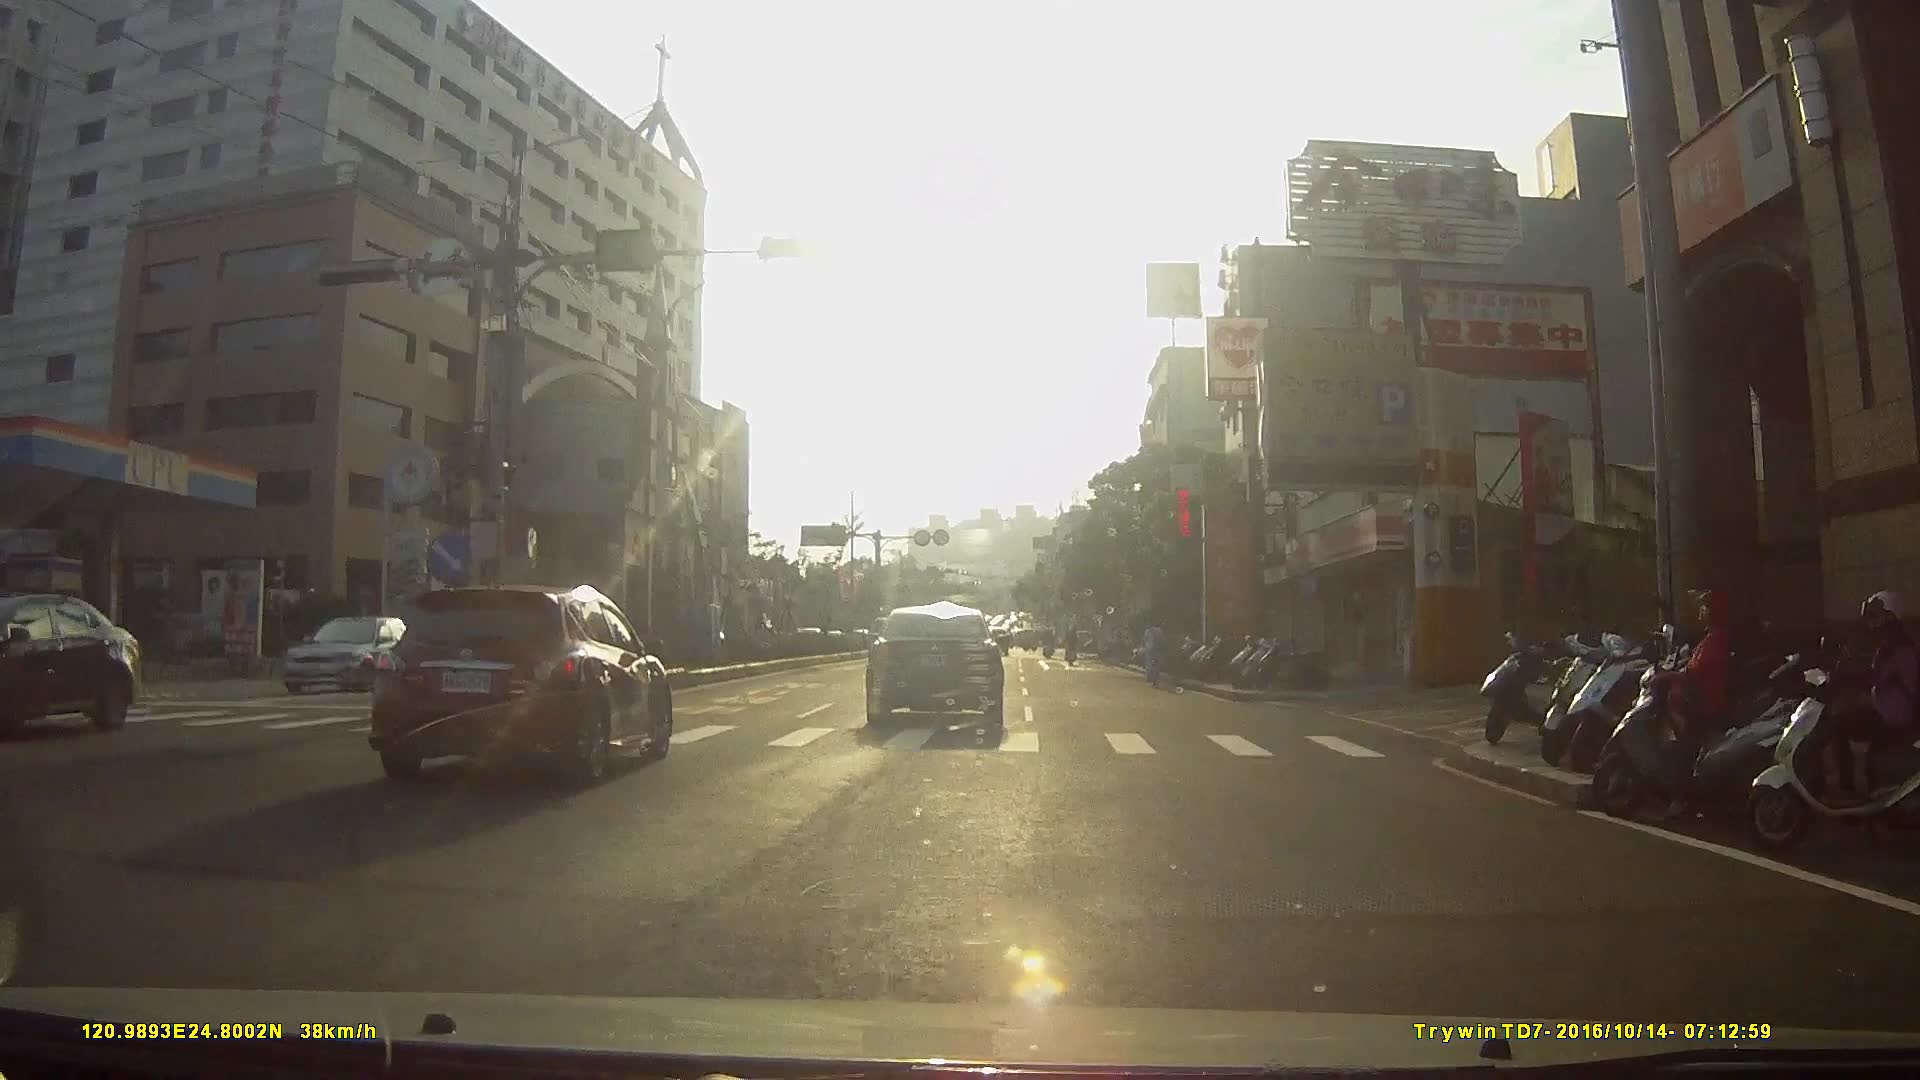rider: (1585, 583, 1832, 835), (1743, 586, 1919, 857), (1138, 619, 1167, 691)
vehicle: (374, 574, 683, 797), (1, 592, 162, 742), (860, 606, 1021, 738), (268, 614, 448, 703), (763, 607, 822, 662)
